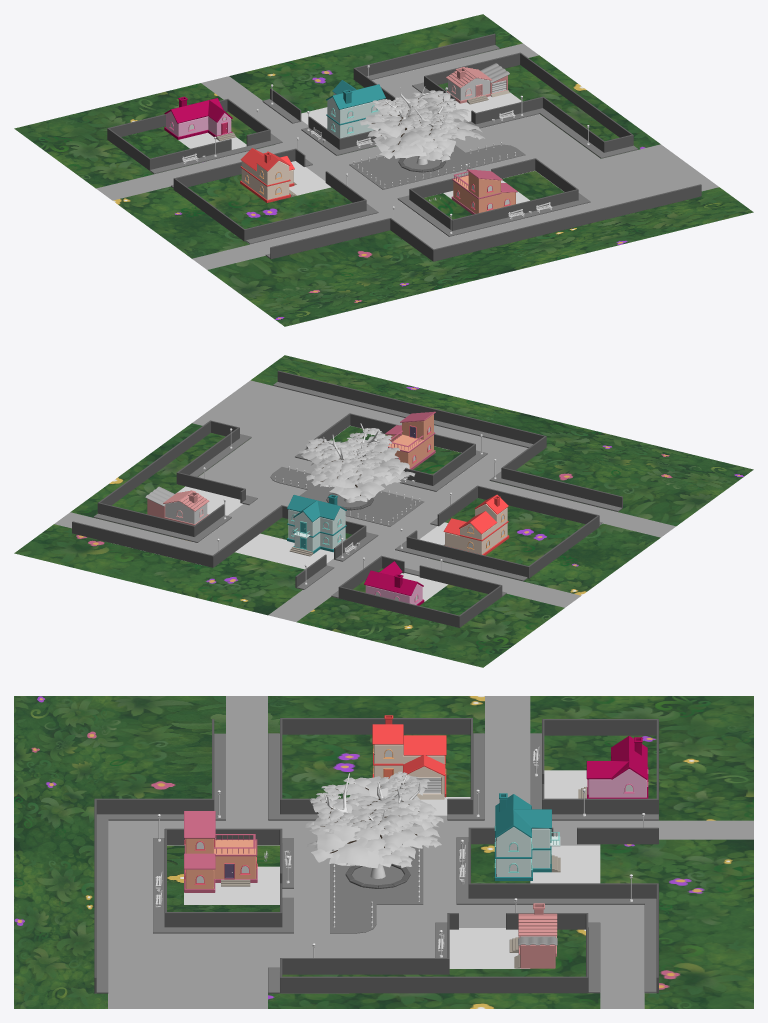
Rendered from bank.fbx.
The picture shows the model from 3 angles, top to bottom: view 1: azimuth 30°, elevation 25°; view 2: azimuth 150°, elevation 25°; view 3: azimuth 270°, elevation 25°; orthographic projection. The views are drawn at different scales.
Visible parts, largest first — view 1: Plane.055, Plane.014, Plane.013, Plane.011, Plane.012, Plane.029, Plane.005, Plane.009, Cube.025, Cube.005, Plane.041, Plane.036 (+11 smaller); view 2: Plane.055, Plane.014, Plane.013, Plane.011, Plane.005, Plane.009, Plane.029, Plane.012, Plane.040, Cube, Cube.005, Cube.025 (+9 smaller); view 3: Plane.055, Plane.013, Plane.005, Plane.029, Plane.011, Plane.009, Plane.040, Plane.012, Plane.036, Plane.041, Plane.014, Cube.025 (+22 smaller).
Boxes of the visible parts, x1,y1,x2,y2 form: Plane.055: (14,14,753,326); Plane.014: (270,184,701,261); Plane.013: (424,52,633,152); Plane.011: (173,148,366,241); Plane.012: (409,158,578,230); Plane.029: (349,144,525,189); Plane.005: (270,33,495,149); Plane.009: (107,99,270,170); Cube.025: (453,172,515,213); Cube.005: (241,161,293,199); Plane.041: (397,193,590,236); Plane.036: (301,45,499,155); Plane.055: (14,355,753,667); Plane.014: (277,370,622,508); Plane.013: (97,420,245,536); Plane.011: (406,485,599,578); Plane.005: (72,505,366,588); Plane.009: (338,555,502,627); Plane.029: (270,467,424,526); Plane.012: (306,413,475,485); Plane.040: (273,382,621,511); Cube: (288,508,345,550); Cube.005: (445,504,507,554); Cube.025: (387,414,433,468); Plane.055: (14,696,753,1008); Plane.013: (280,913,588,993); Plane.005: (468,827,658,993); Plane.029: (330,844,423,933); Plane.011: (280,718,472,814); Plane.009: (542,719,658,814); Plane.040: (96,733,225,993); Plane.012: (164,828,282,927); Plane.036: (456,837,656,993); Plane.041: (153,838,293,933); Plane.014: (94,719,214,993); Cube.025: (185,838,256,888).
Bounding box in the file's own units: 6288 × 888 × 6288.
